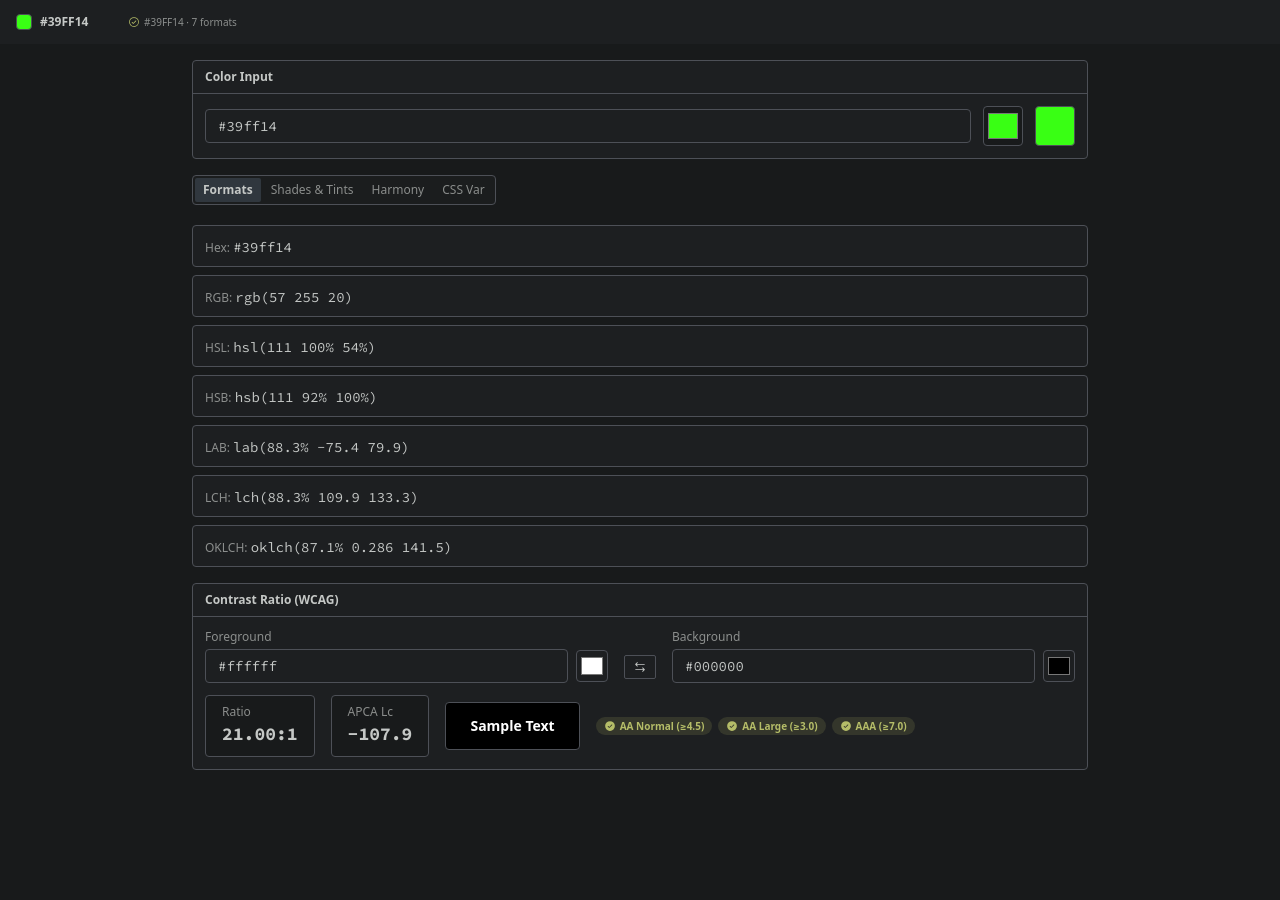
Test: ColorConverter › preserves alpha across converted formats
The image size is (1280, 900).
Replace the text in the field with placeholder "#39ff14" with "rgba(255, 0, 0, 0.5)" at (588,126), box [205,109,971,143]
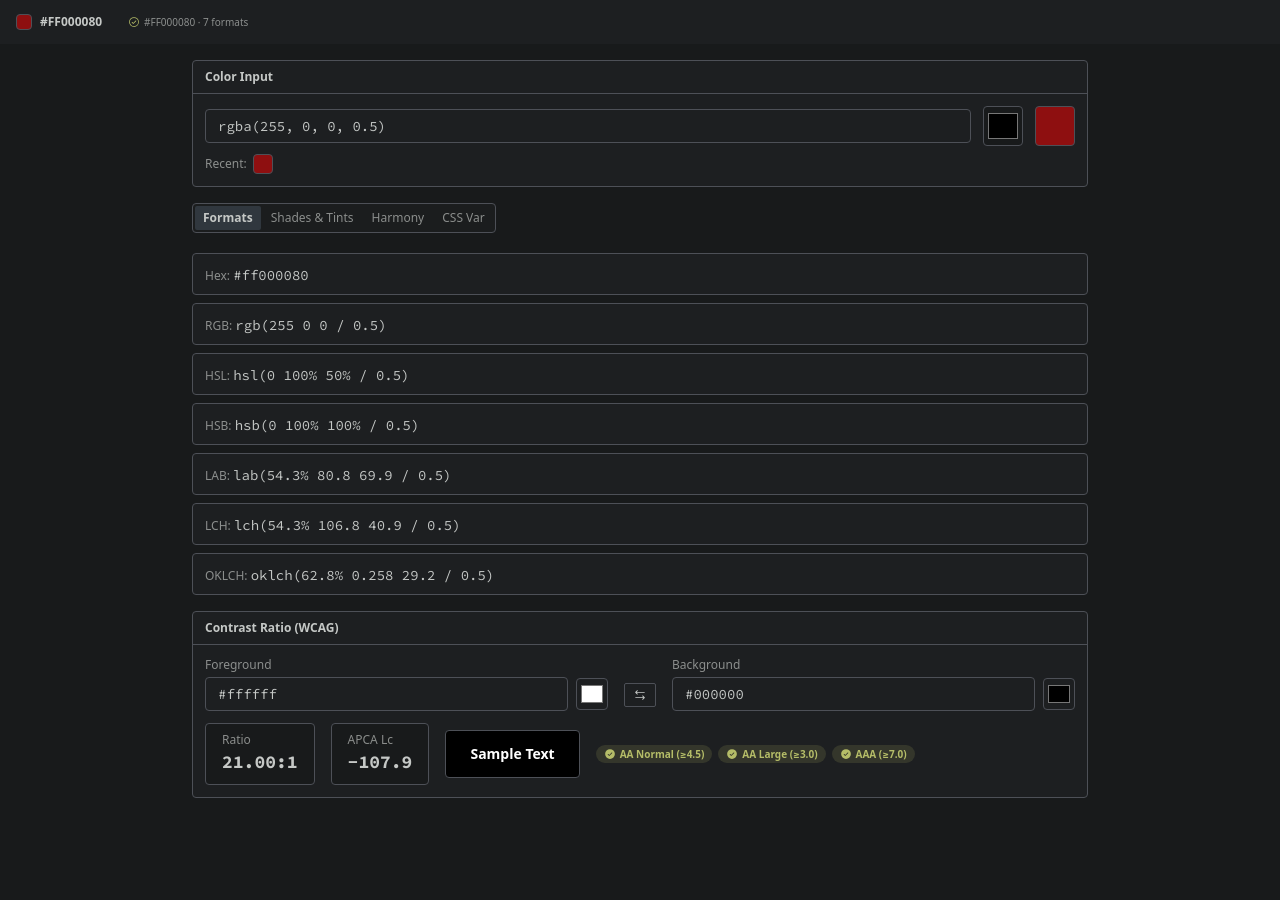
Result: the button with aria-label "Copy Hex value #ff000080" is shown at [192,253,1088,295]
Result: the button "HSL: hsl(0 100% 50% / 0.5)" is shown at [192,353,1088,395]
